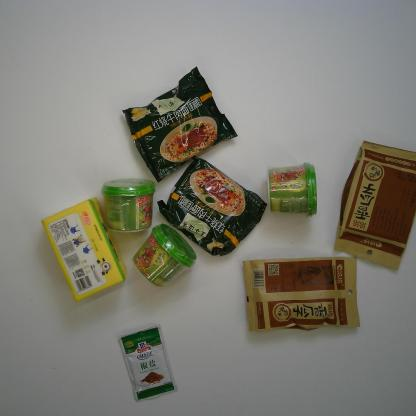Dried Food: (332, 140, 416, 271), (242, 255, 361, 333)
Instant Drink: (132, 223, 197, 289), (100, 177, 156, 234), (266, 162, 318, 216)
Instant Noodles: (120, 65, 238, 184), (156, 154, 268, 258)
Seasoner: (117, 322, 178, 403)
Tissue: (40, 196, 127, 304)
